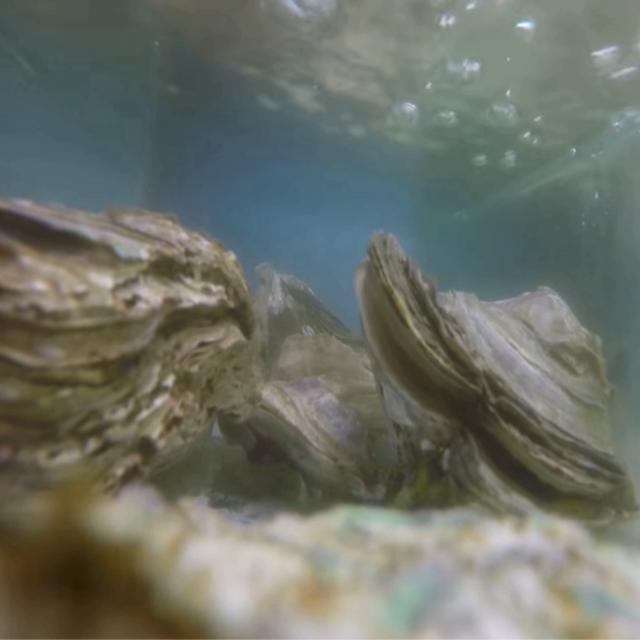Oyster-Closed: (0, 198, 256, 532), (258, 334, 412, 508)
Oyster-Indeterminate: (0, 485, 640, 640), (254, 261, 370, 377)
Oyster-Open: (356, 231, 640, 542)
